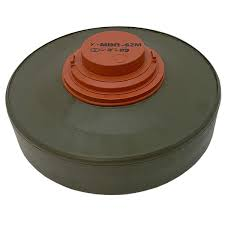car: (1, 0, 220, 206)
